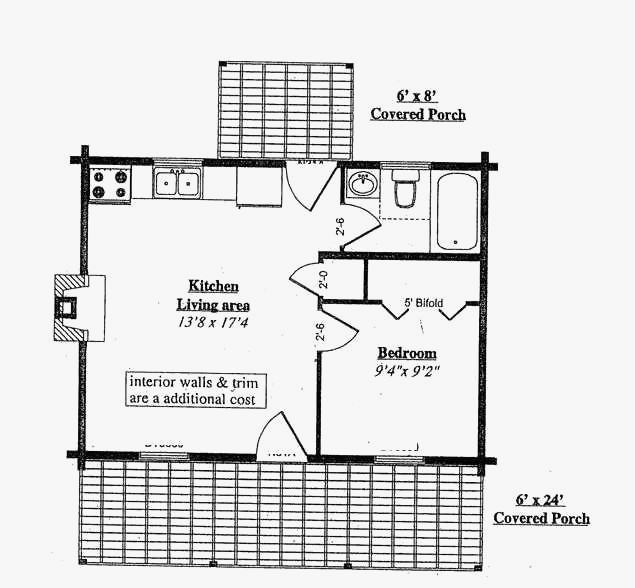room: (82, 157, 321, 462), (315, 297, 485, 464), (334, 161, 489, 262)
